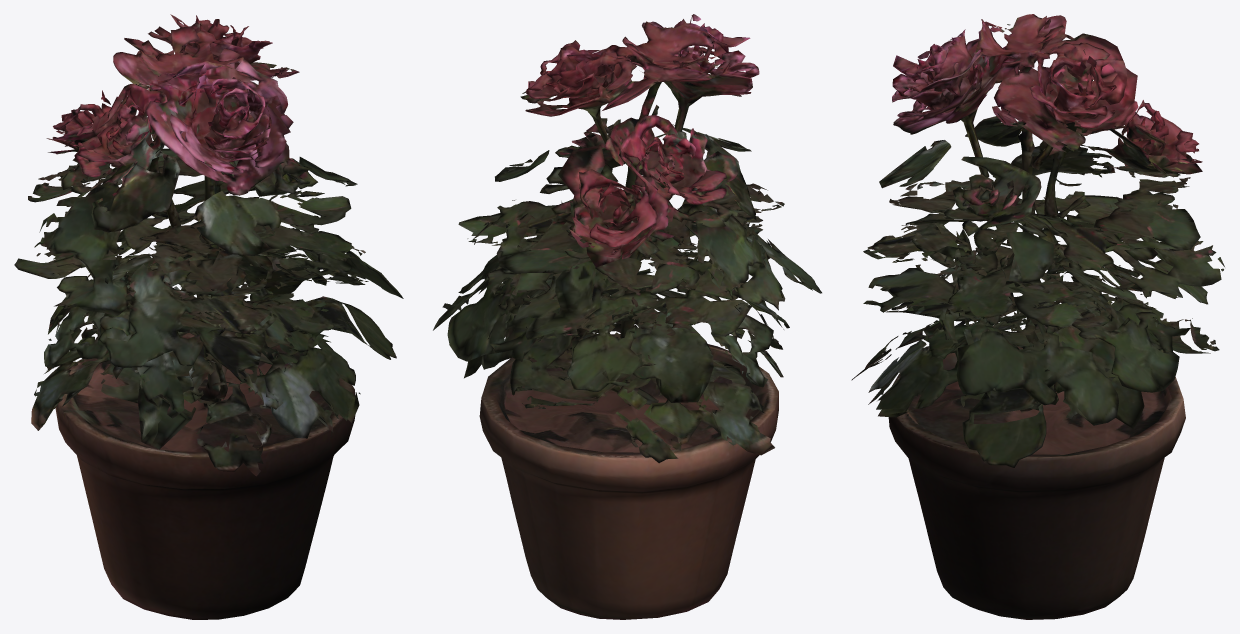
Rendered from roseplant.glb.
The picture shows the model from 3 angles, left to right: view 1: azimuth 30°, elevation 25°; view 2: azimuth 150°, elevation 25°; view 3: azimuth 270°, elevation 25°; orthographic projection.
Size of the model in its own units: 1.26 by 2 by 1.24.
Materials: 1 (1 with a texture image).
